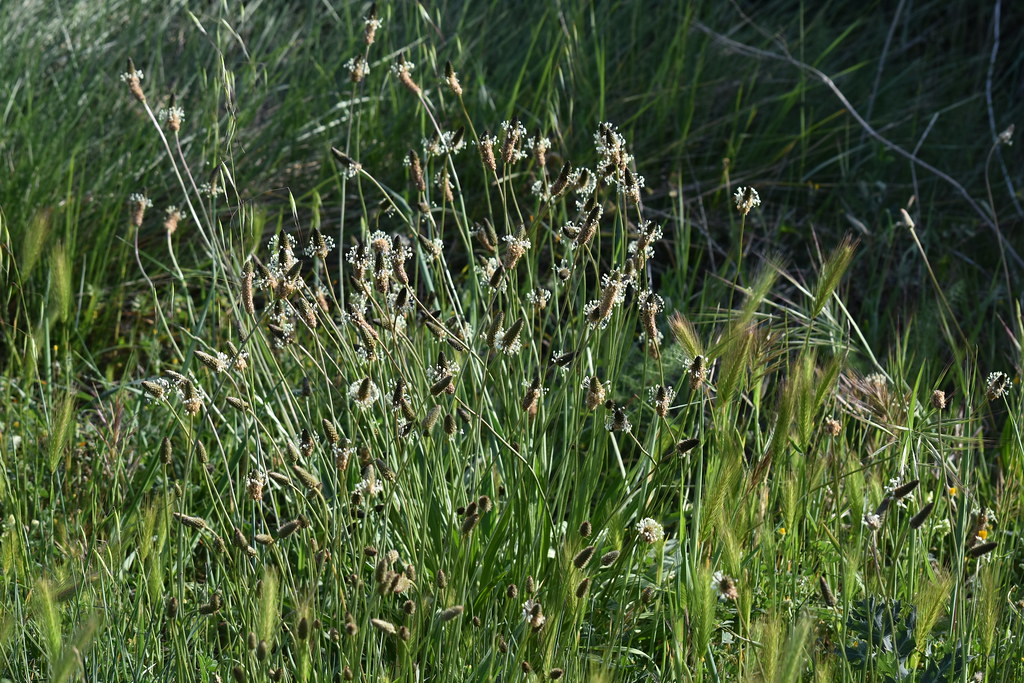buckhorn plantain: (89, 37, 738, 677)
